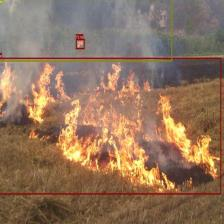fire: (0, 57, 221, 194), (76, 39, 84, 49)
smoke: (0, 0, 172, 61)
